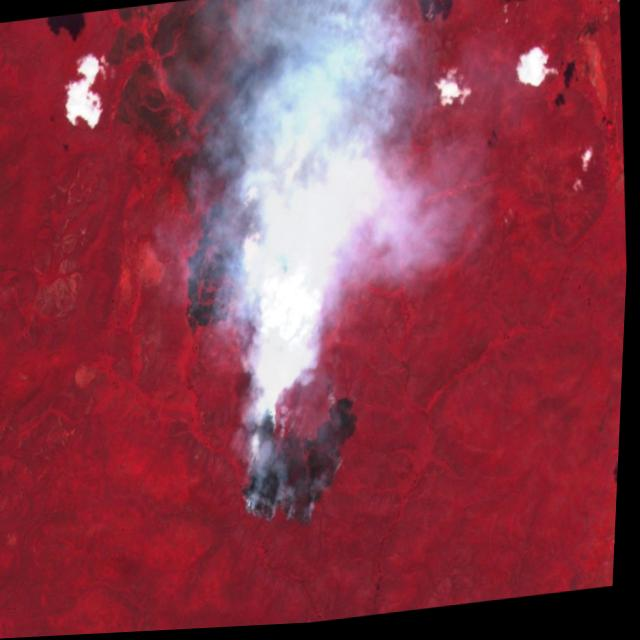fire: (230, 368, 375, 545), (180, 289, 255, 339)
